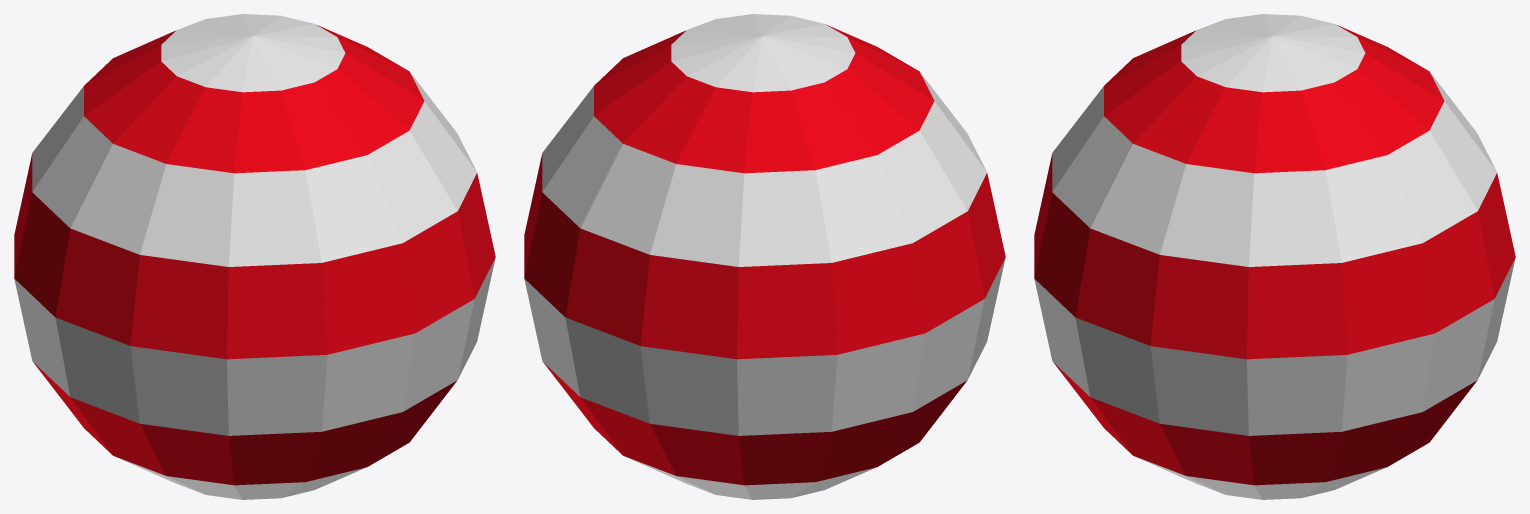
The picture shows the model from 3 angles, left to right: view 1: azimuth 30°, elevation 25°; view 2: azimuth 150°, elevation 25°; view 3: azimuth 270°, elevation 25°; orthographic projection.
Parts seen in each view (by area): view 1: Sphere; view 2: Sphere; view 3: Sphere.
Boxes of the visible parts, <box> form: Sphere: <box>14,14,495,499</box>; Sphere: <box>524,14,1005,499</box>; Sphere: <box>1034,14,1515,499</box>.
Bounding box in the file's own units: 1.99 × 2 × 1.98.
